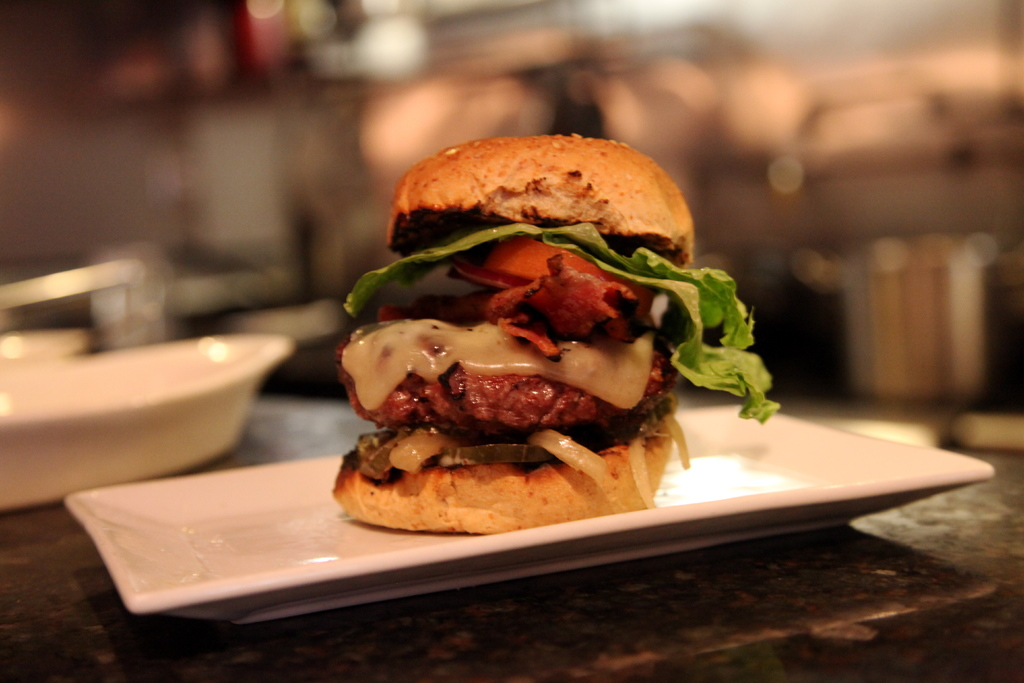Hamburger: (330, 137, 775, 534)
